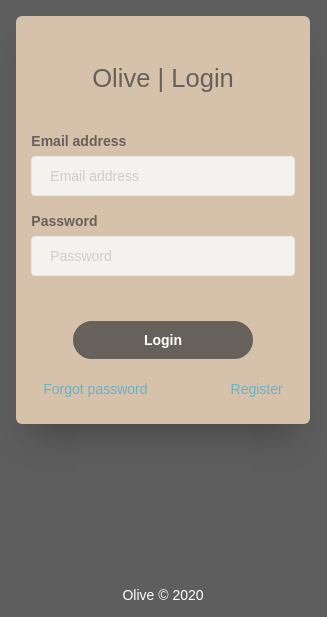
Test case: Login page › should validate form on submit
The image size is (327, 617).
Click the submit button at [163, 340], box [73,321,253,359]
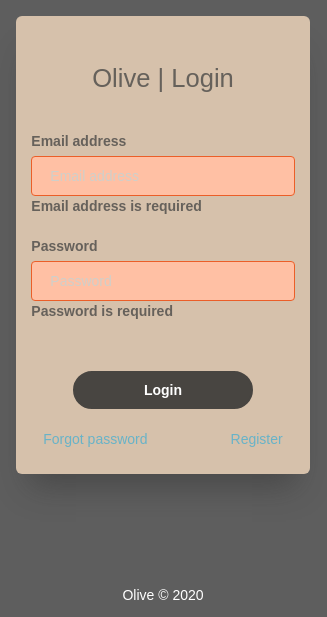
Expected: the text "Email address is required" is shown, [31,196,202,216]
Expected: the label with id "emailAddressErrorMessage" reads "Email address is required", [31,196,201,216]
Expected: the label "Password is required" is shown, [31,301,173,321]
